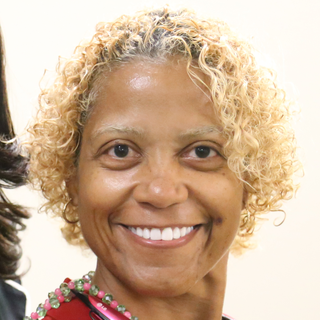eye: (178, 140, 225, 165), (97, 140, 143, 165)
